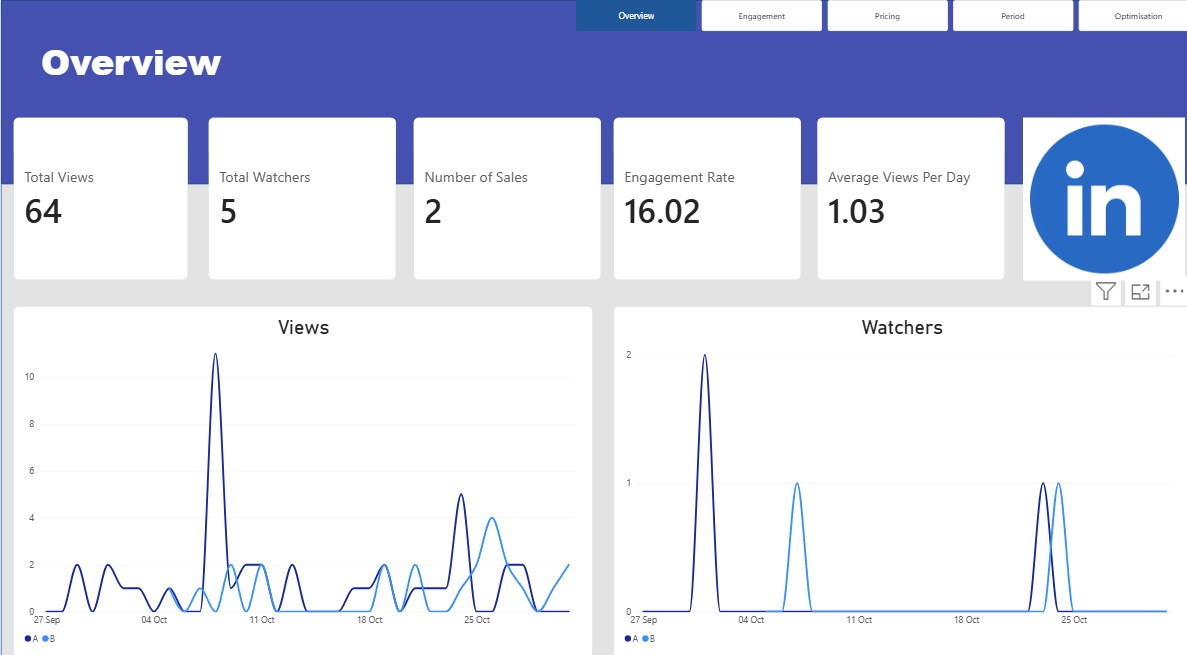

Layout of this report page (visuals, bound fields, positions):
{"tool":"powerbi","page":{"name":"Overview","canvas":[1920,1080],"ordinal":0},"visuals":[{"type":"shape","box":[0,293.2,1920,786.8],"z":0},{"type":"shape","box":[0,0,1920,294.3],"z":1000},{"type":"cardVisual","fields":{"Data":["Sum(daily_performance.views)"]},"box":[20.9,187.8,279.7,260.9],"z":2000},{"type":"cardVisual","fields":{"Data":["Sum(daily_performance.watchers)"]},"box":[331.8,187.8,300.5,260.9],"z":3000},{"type":"cardVisual","fields":{"Data":["Sum(daily_performance.sales)"]},"box":[659.5,187.8,300.5,260.9],"z":4000},{"type":"cardVisual","fields":{"Data":["daily_performance.Engagement Rate"]},"box":[980.9,187.8,300.5,260.9],"z":5000},{"type":"textbox","box":[64.7,58.4,1807.3,110.6],"z":6000},{"type":"lineChart","title":"Views","fields":{"Category":["daily_performance.date"],"Series":["daily_performance.product"],"Y":["Sum(daily_performance.views)"]},"box":[20.9,490.4,926.6,563.5],"z":7000},{"type":"lineChart","title":"Watchers","fields":{"Category":["daily_performance.date"],"Series":["daily_performance.product"],"Y":["Sum(daily_performance.watchers)"]},"box":[980.9,490.4,922.4,563.5],"z":8000},{"type":"cardVisual","fields":{"Data":["Avg(daily_performance.views)"]},"box":[1306.4,187.8,300.5,260.9],"z":9000},{"type":"image","box":[1627.8,187.8,275.5,260.9],"z":10000},{"type":"pageNavigator","box":[920,0,1000,50],"z":11000}]}

Visuals, with their boxes in screenshot pixels (x1, y1, x2, y2), scaled from the page's 1920x1080 canvas onto the 1187x655 screenshot:
shape: l=0, t=178, r=1186, b=654
shape: l=0, t=0, r=1186, b=178
cardVisual - Sum(daily_performance.views): l=13, t=114, r=186, b=272
cardVisual - Sum(daily_performance.watchers): l=205, t=114, r=391, b=272
cardVisual - Sum(daily_performance.sales): l=408, t=114, r=594, b=272
cardVisual - daily_performance.Engagement Rate: l=606, t=114, r=792, b=272
textbox: l=40, t=35, r=1157, b=102
"Views" lineChart: l=13, t=297, r=586, b=639
"Watchers" lineChart: l=606, t=297, r=1177, b=639
cardVisual - Avg(daily_performance.views): l=808, t=114, r=993, b=272
image: l=1006, t=114, r=1177, b=272
pageNavigator: l=569, t=0, r=1186, b=30
